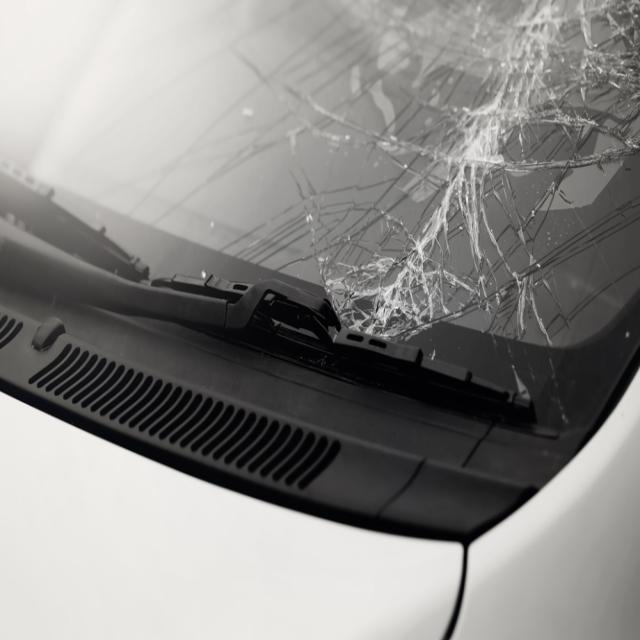Fissure: (56, 0, 640, 386)
